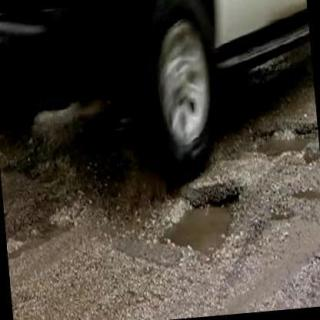pothole: (160, 185, 238, 257), (251, 125, 317, 156)
